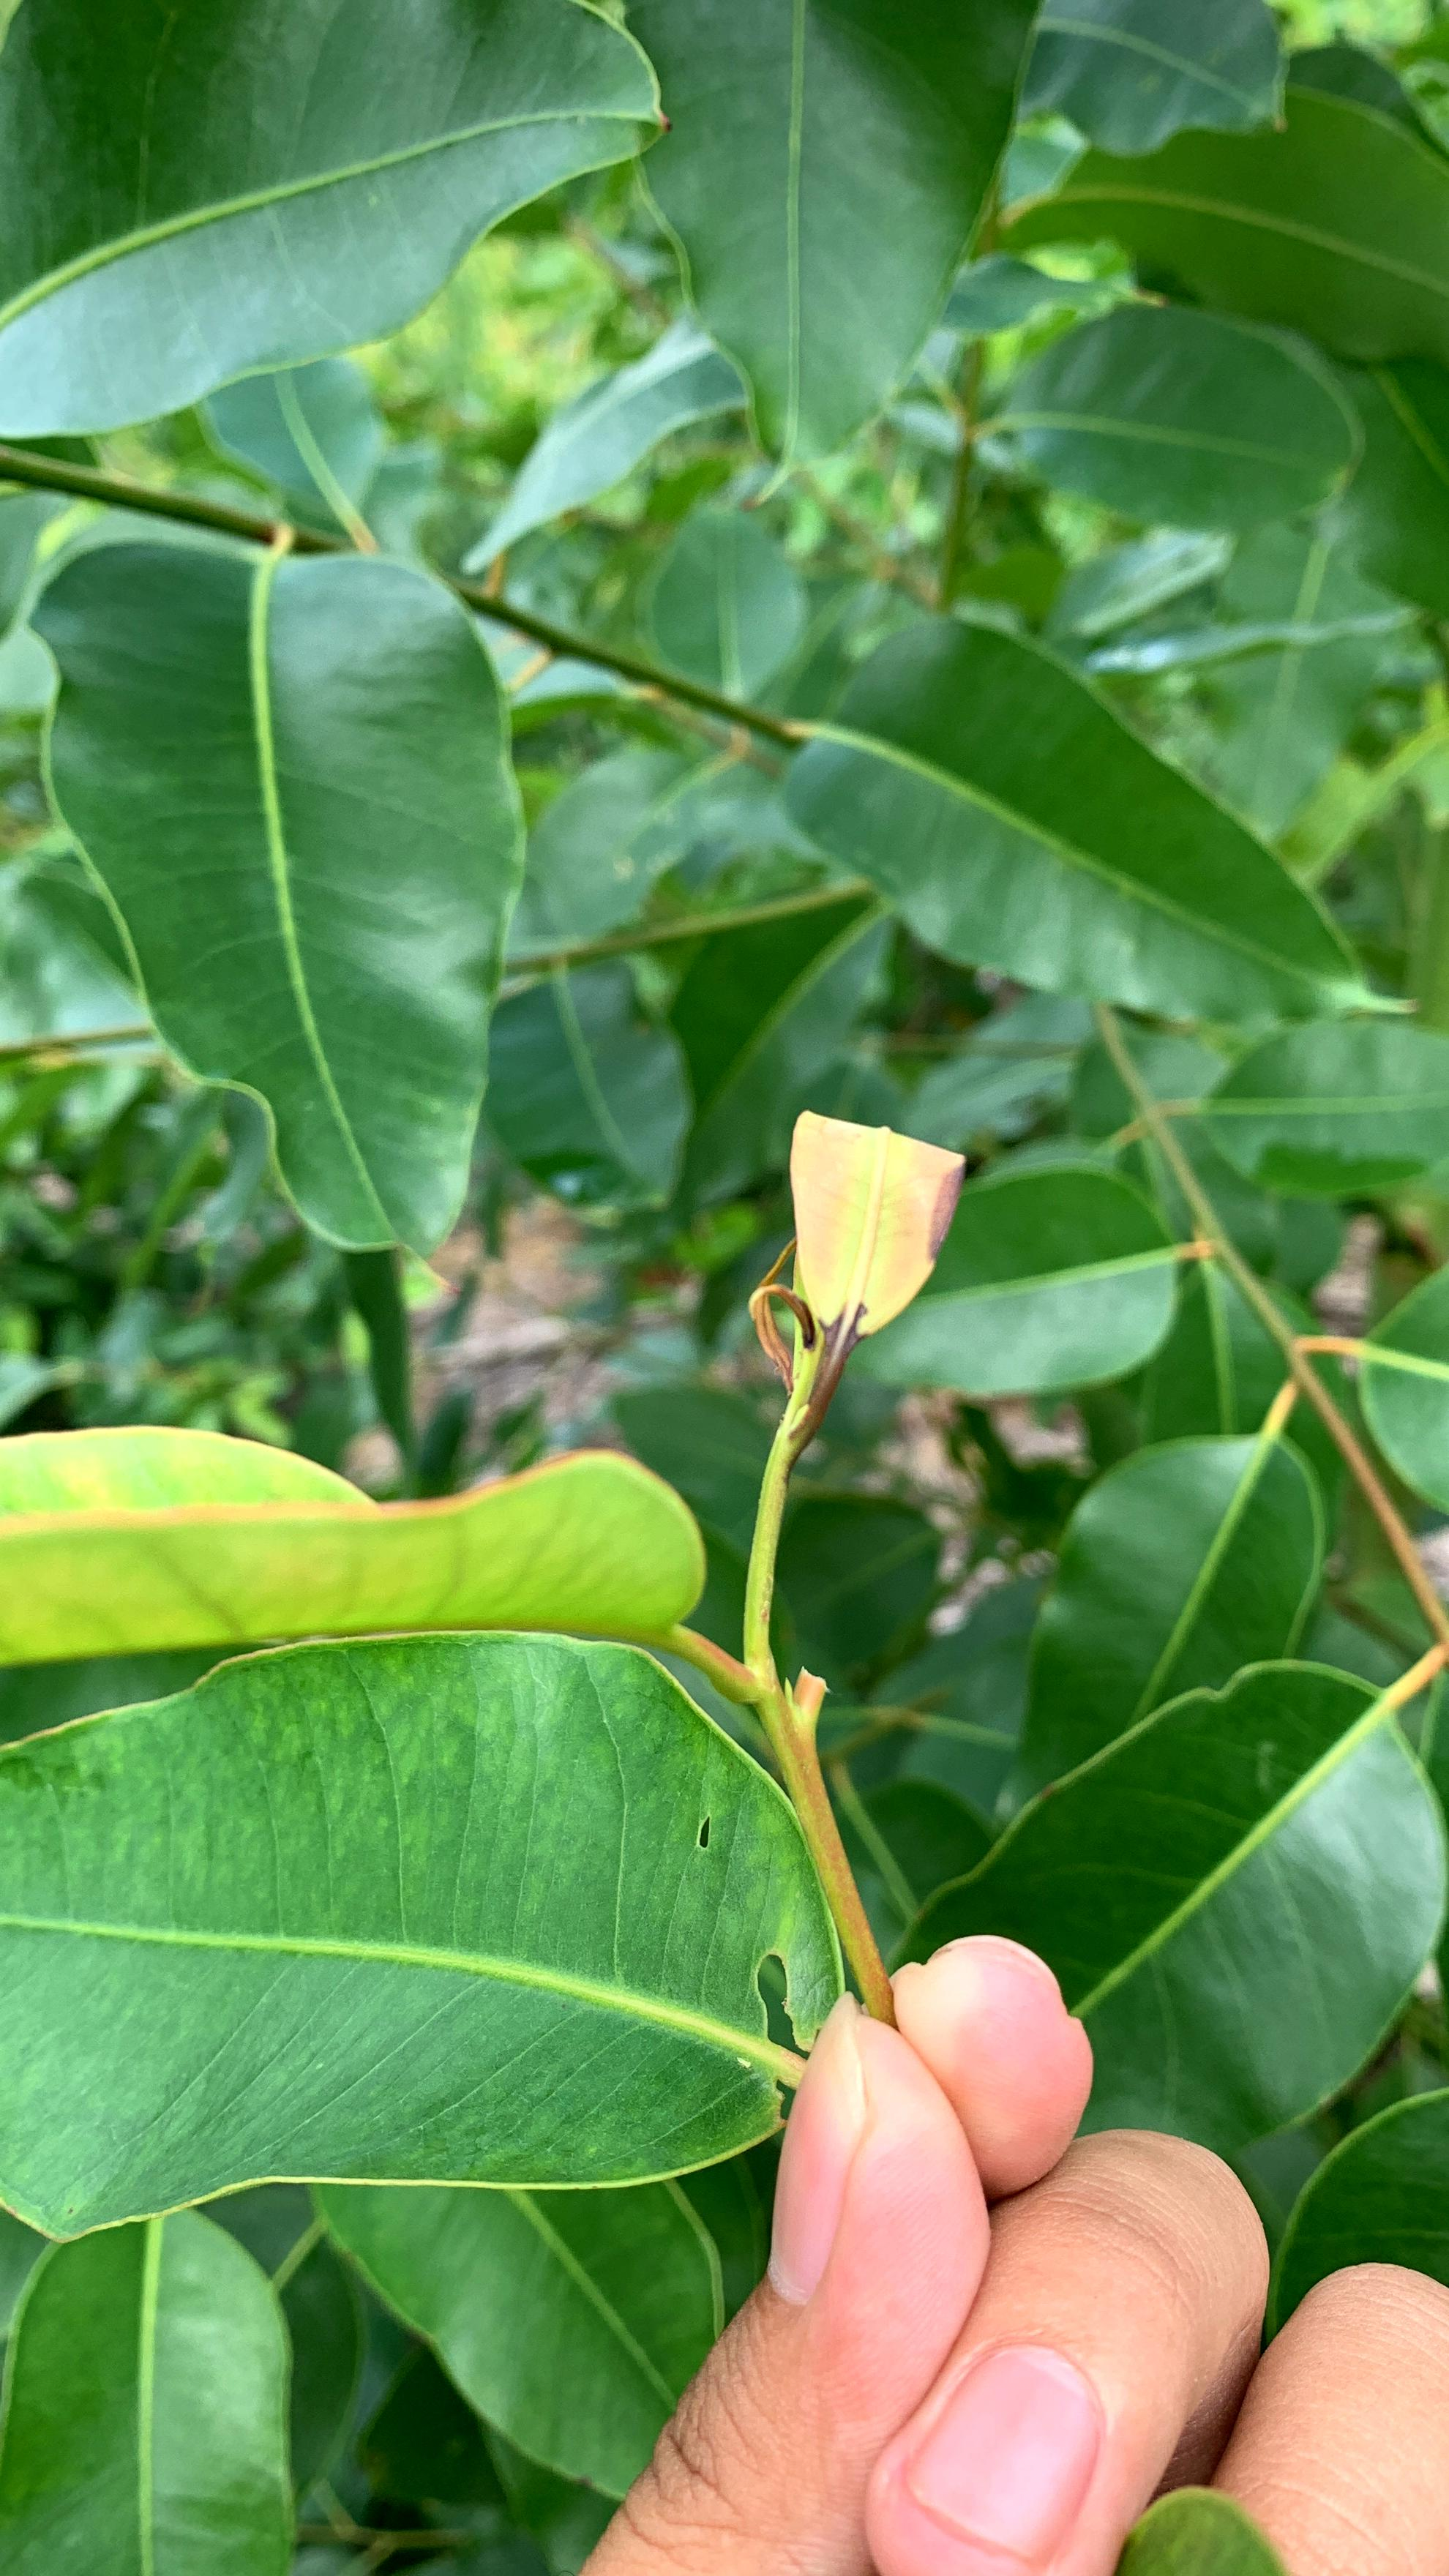Helopeltis-Withered Sprout: (747, 1095, 984, 1463)
